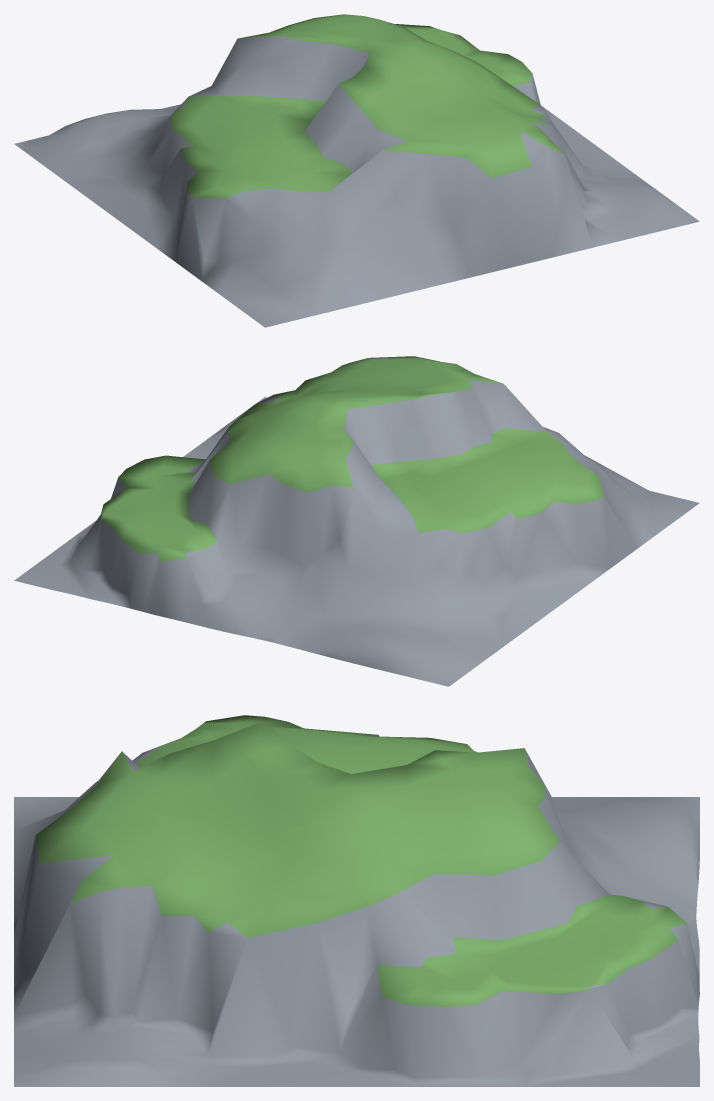
The model's file is SM_Cliffs_03.obj.
The picture shows the model from 3 angles, top to bottom: view 1: azimuth 30°, elevation 25°; view 2: azimuth 150°, elevation 25°; view 3: azimuth 270°, elevation 25°; orthographic projection. The views are drawn at different scales.
Visible parts, largest first — view 1: SM_Cliffs_03; view 2: SM_Cliffs_03; view 3: SM_Cliffs_03.
Part boxes in pixels (x1,y1,x2,y2): SM_Cliffs_03: [14, 14, 699, 327]; SM_Cliffs_03: [14, 356, 699, 686]; SM_Cliffs_03: [14, 715, 699, 1086].
Bounding box in the file's own units: 10.89 × 3.26 × 10.89.
Materials: 1 (1 with a texture image).
